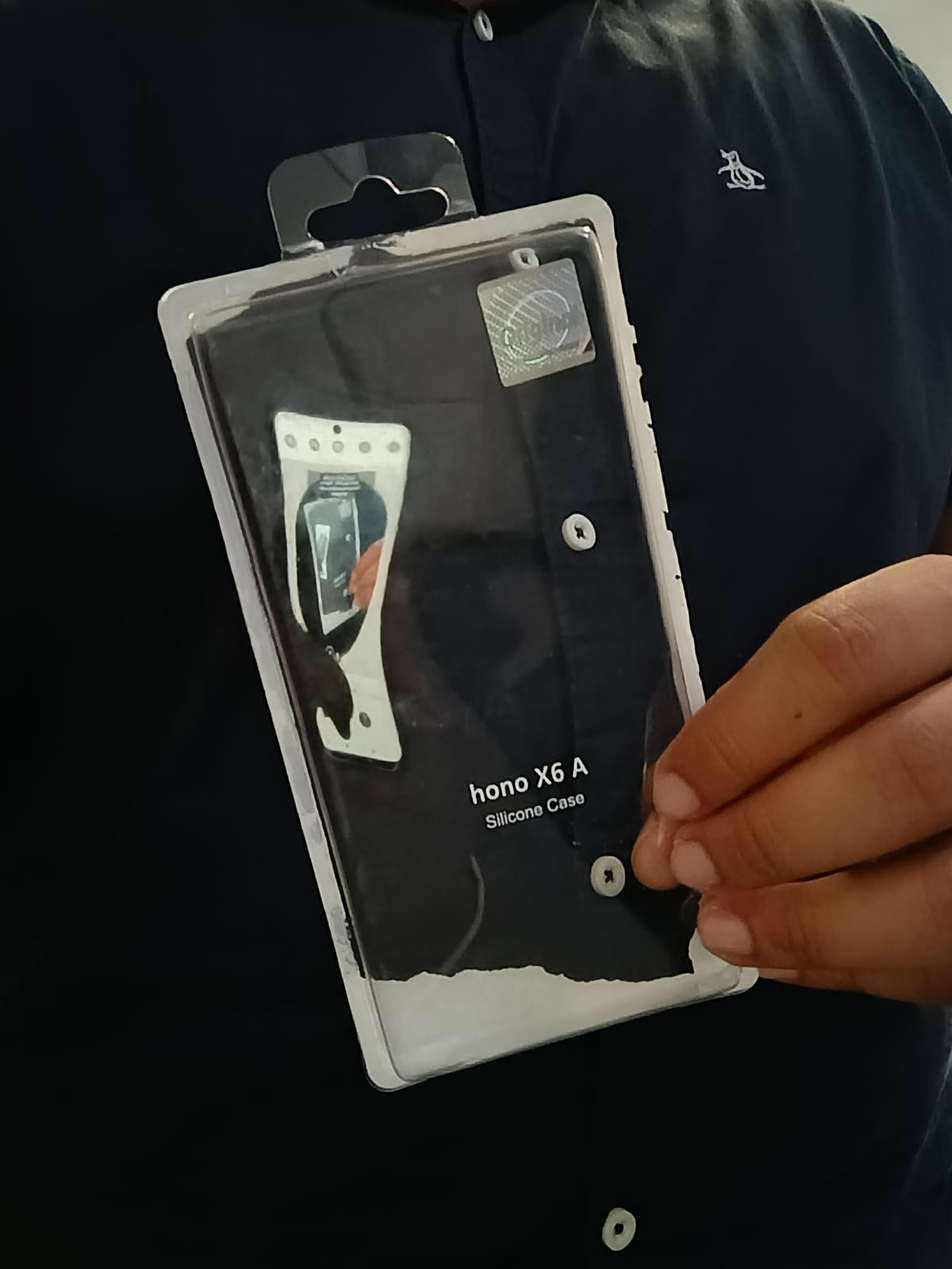Ordinario: (154, 131, 761, 1085)
